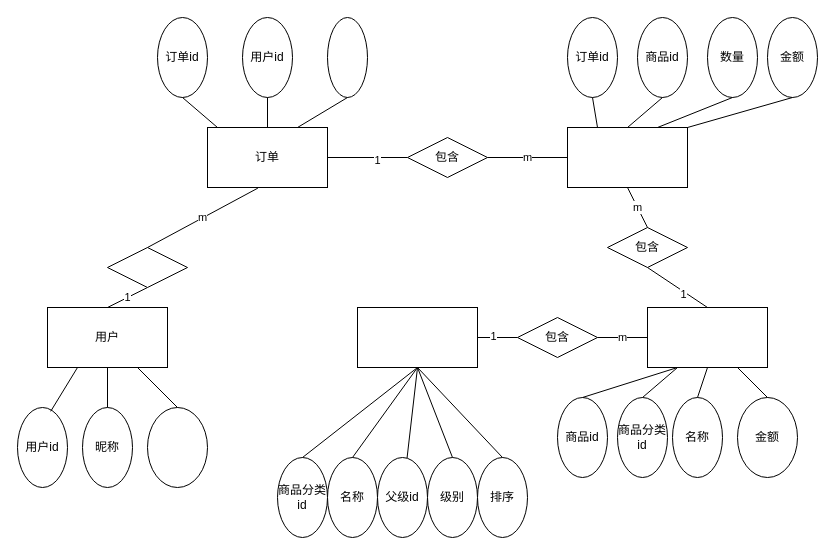
Image size: 835x555. Some labels were removed from this diagram. The centre of each missing label's shape, as x and y in pixels:
"商品" belongs at [707,337].
"商品分类" belongs at [417,337].
"姓名" belongs at [177,447].
"总金额" belongs at [347,57].
"拥有" belongs at [147,267].
"订单行" belongs at [627,157].
